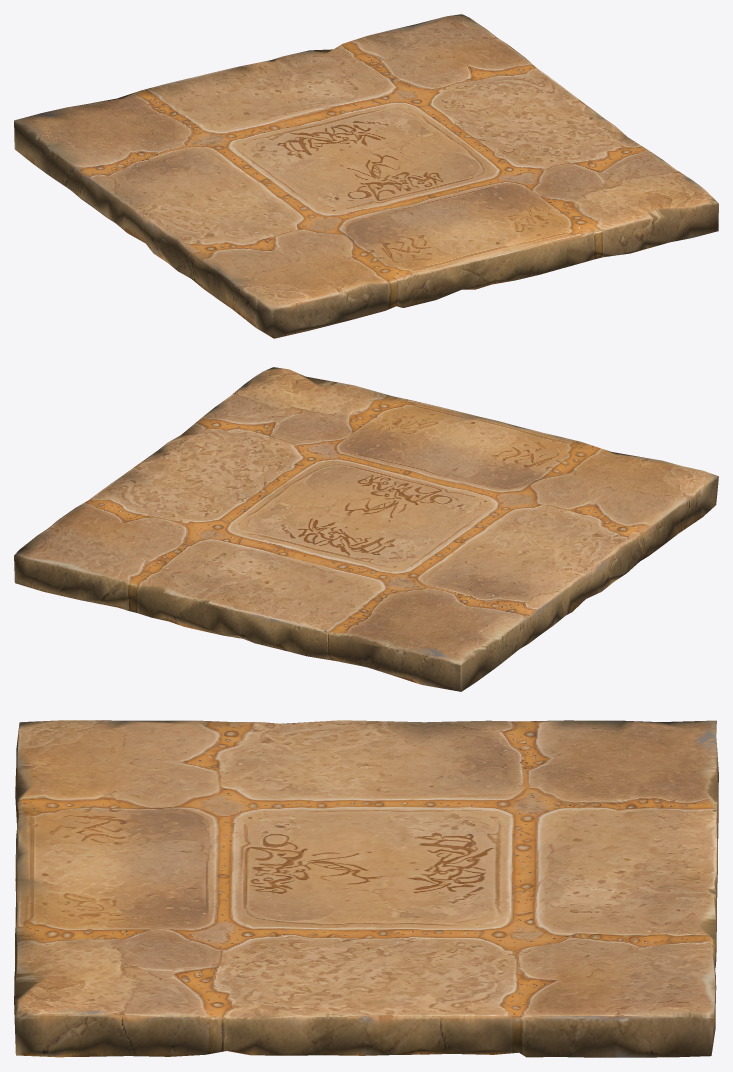
Rendered from Tile_Desert_Floor.fbx.
The picture shows the model from 3 angles, top to bottom: view 1: azimuth 30°, elevation 25°; view 2: azimuth 150°, elevation 25°; view 3: azimuth 270°, elevation 25°; orthographic projection. The views are drawn at different scales.
Parts seen in each view (by area): view 1: texture_mapping; view 2: texture_mapping; view 3: texture_mapping.
Boxes of the visible parts, left/top/right/bottom form: texture_mapping: left=14, top=14, right=718, bottom=338; texture_mapping: left=14, top=367, right=718, bottom=691; texture_mapping: left=14, top=720, right=718, bottom=1057.
Bounding box in the file's own units: 1 × 0.9987 × 0.0731.
1 material, 1 textured.
